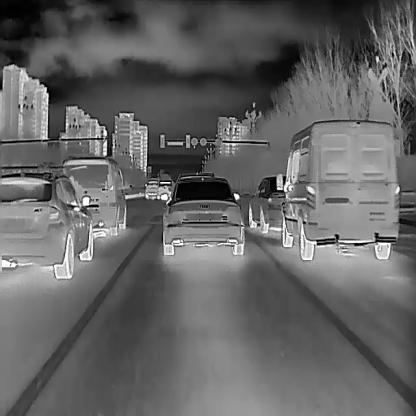car: (279, 117, 401, 261), (0, 159, 96, 279), (161, 174, 245, 255), (61, 153, 127, 236), (246, 173, 290, 232), (157, 179, 175, 200), (144, 178, 158, 198)
